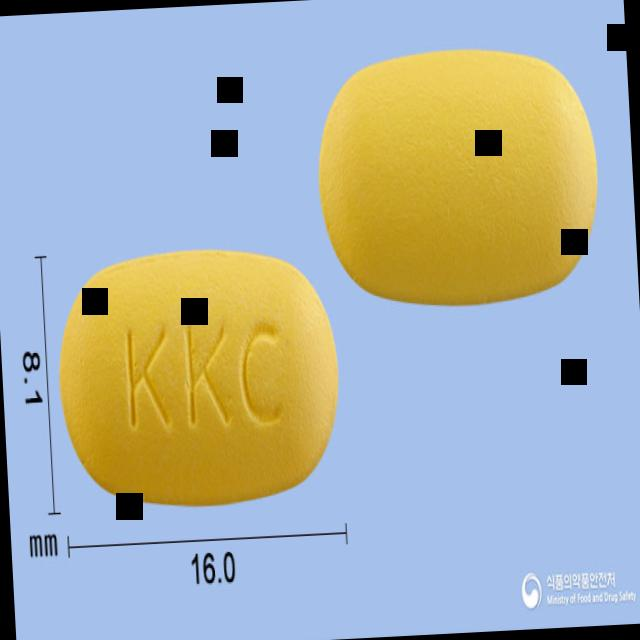Carbastar: (55, 244, 345, 517), (312, 44, 605, 310)
